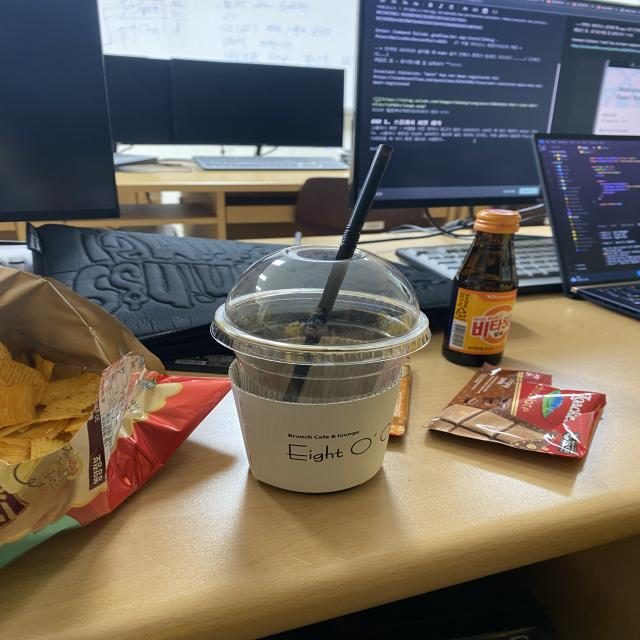recyclable: (195, 208, 444, 508), (426, 178, 552, 377)
